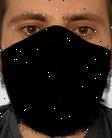with_mask: (1, 2, 112, 138)
